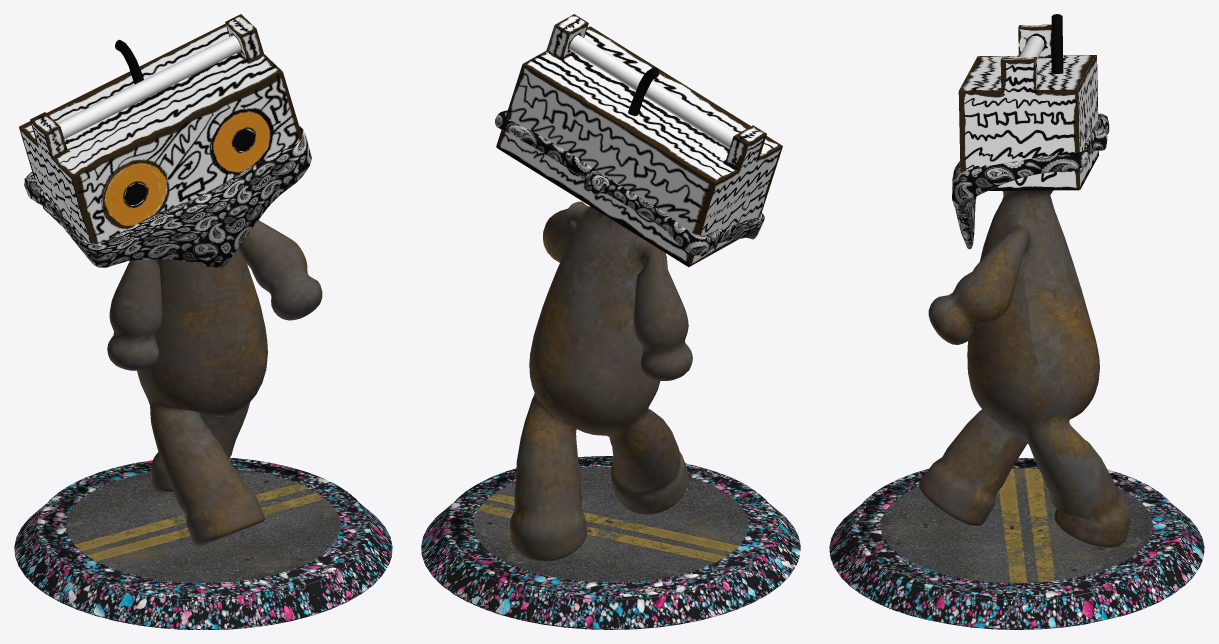
3 renders of one model, left to right at view 1: azimuth 30°, elevation 25°; view 2: azimuth 150°, elevation 25°; view 3: azimuth 270°, elevation 25°, orthographic.
Visible parts, largest first — view 1: BBody; view 2: BBody; view 3: BBody.
Boxes of the visible parts, <box> form: BBody: <box>14,14,392,629</box>; BBody: <box>421,14,800,629</box>; BBody: <box>829,14,1204,629</box>.
Bounding box in the file's own units: 1.45 × 2.19 × 1.45.
6 materials, 5 textured.
